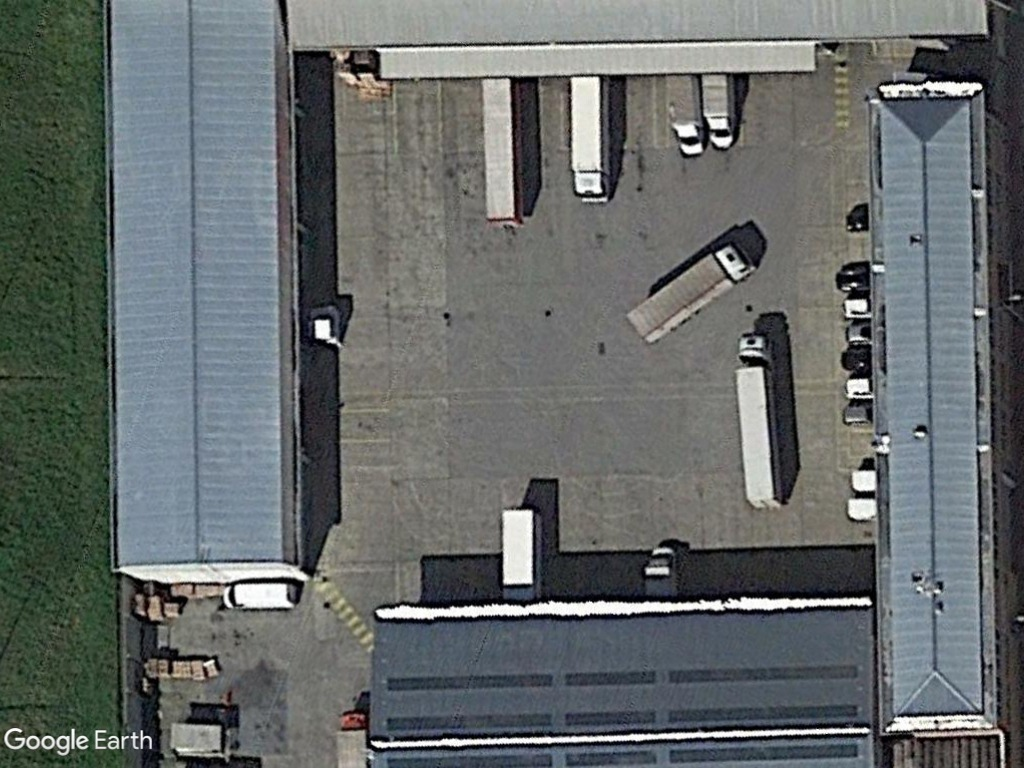longvehicle: (731, 331, 789, 509), (478, 76, 529, 230), (568, 73, 614, 203), (496, 506, 539, 602)
truck: (626, 234, 760, 345), (671, 76, 706, 156), (216, 581, 302, 613), (702, 74, 737, 152)
